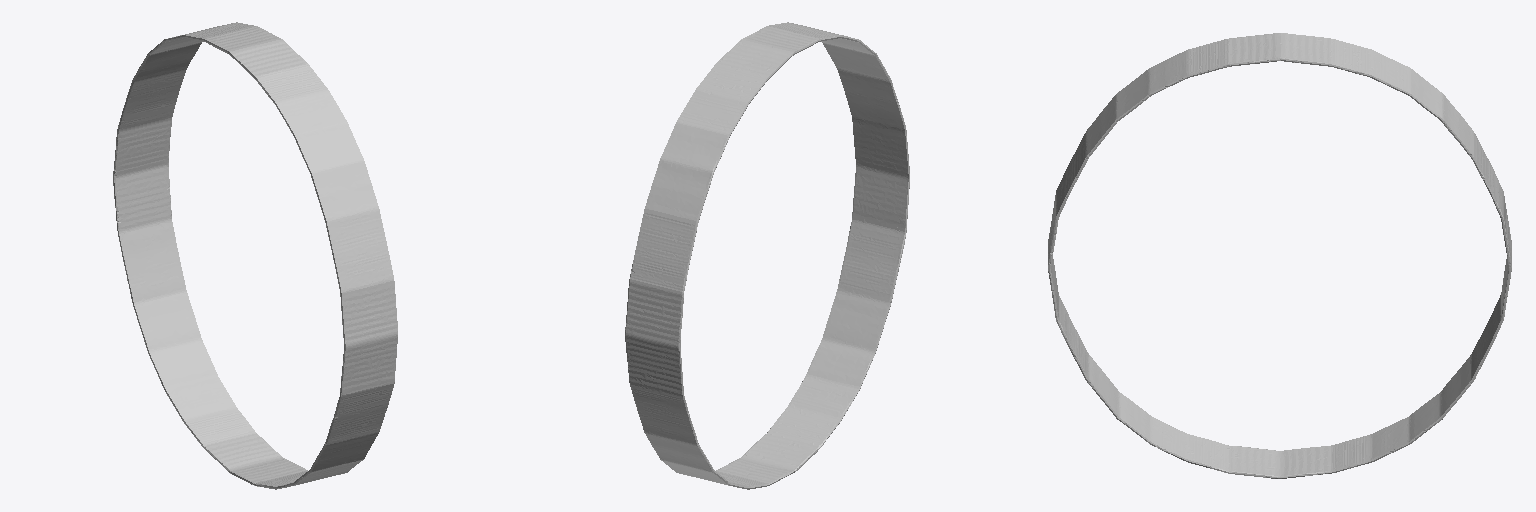
File: Anillo.obj
3 views of the same model, side by side, from view 1: azimuth 30°, elevation 25°; view 2: azimuth 150°, elevation 25°; view 3: azimuth 270°, elevation 25° (orthographic).
Visible parts, largest first — view 1: Mesh_0; view 2: Mesh_0; view 3: Mesh_0.
Part boxes in pixels (left/top/right/bottom): Mesh_0: left=113, top=22, right=397, bottom=489; Mesh_0: left=625, top=22, right=909, bottom=489; Mesh_0: left=1048, top=33, right=1511, bottom=478.
Bounding box in the file's own units: 0.272 × 2 × 2.